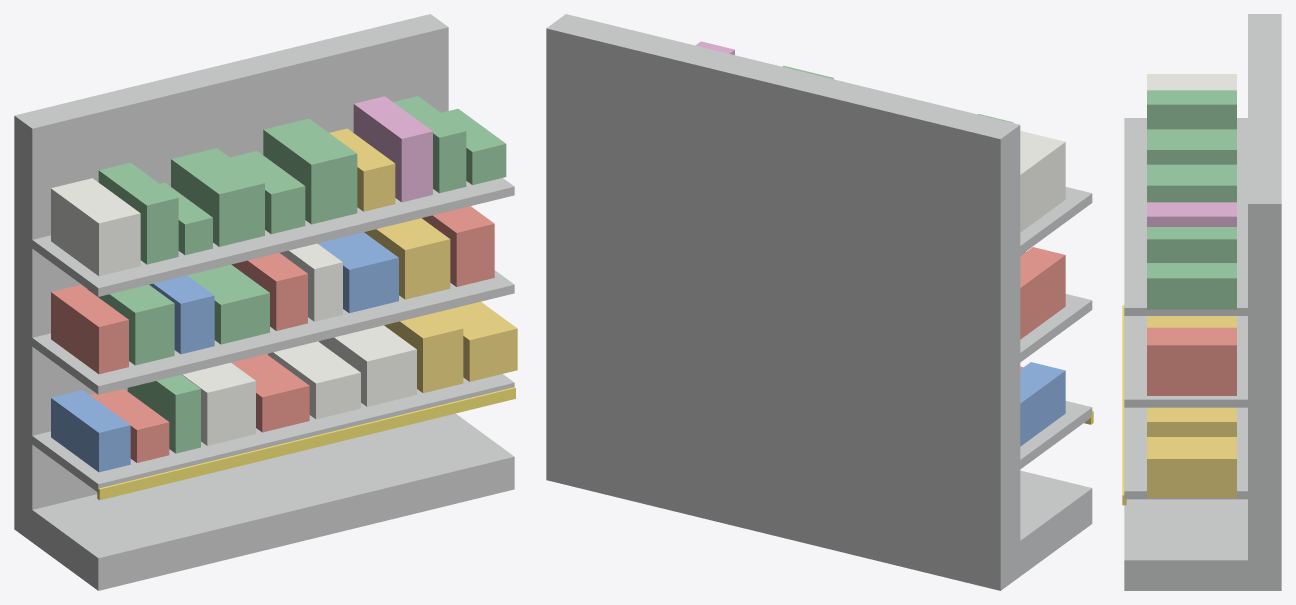
The model's file is shop-shelf.glb.
3 renders of one model, left to right at view 1: azimuth 30°, elevation 25°; view 2: azimuth 150°, elevation 25°; view 3: azimuth 270°, elevation 25°, orthographic. The views are drawn at different scales.
Visible parts, largest first — view 1: shop-shelf; view 2: shop-shelf; view 3: shop-shelf.
Part boxes in pixels (x1,y1,x2,y2): shop-shelf: (14,14,517,590); shop-shelf: (546,14,1093,590); shop-shelf: (1122,14,1281,590).
Size of the model in its own units: 2.07 by 1.9 by 0.71.
